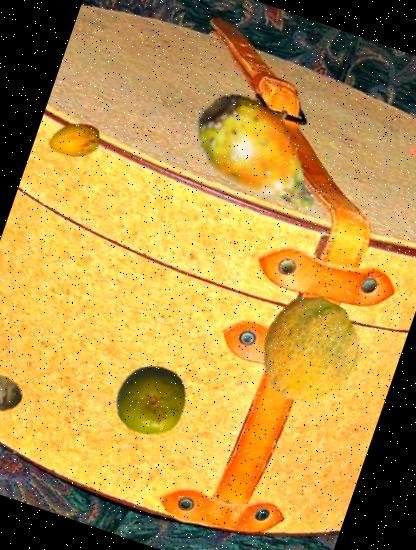Cactus: (167, 60, 355, 248)
Cantaloupe: (242, 283, 379, 420)
Ginger: (0, 348, 31, 434)
Pepino: (40, 107, 108, 174)
Pomelo: (105, 354, 198, 448)
